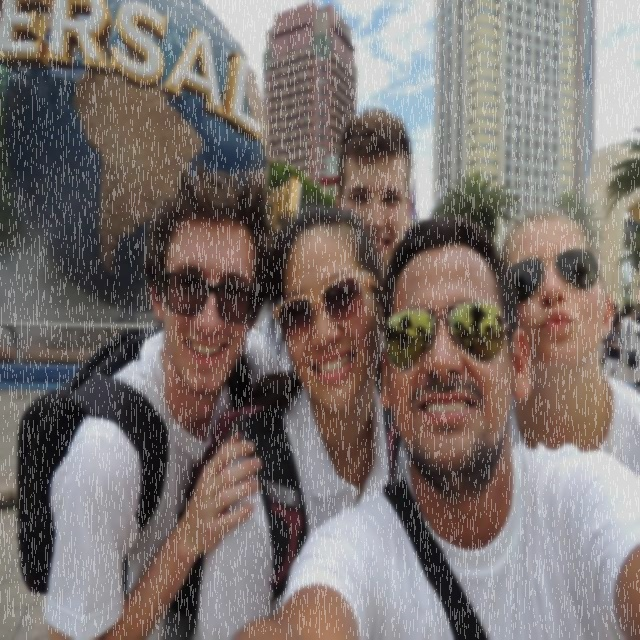pessoa: (226, 215, 640, 639), (0, 154, 292, 639), (183, 198, 411, 640), (258, 107, 433, 490), (496, 208, 640, 474), (600, 286, 640, 396), (618, 302, 640, 386)
